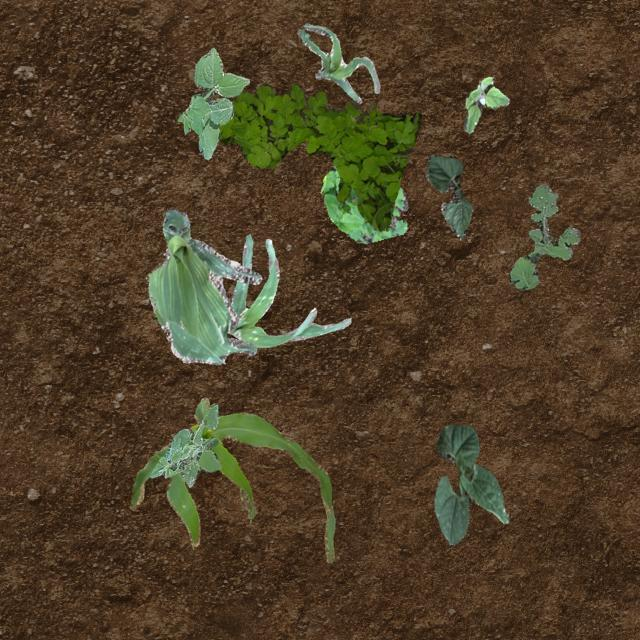crop: (130, 396, 334, 562), (147, 208, 260, 364), (226, 234, 350, 346), (432, 424, 508, 544), (296, 22, 378, 102), (424, 154, 472, 238)
weed: (218, 81, 420, 230), (176, 46, 248, 158), (508, 182, 578, 290), (320, 164, 408, 242), (148, 402, 220, 486), (462, 76, 508, 132)
